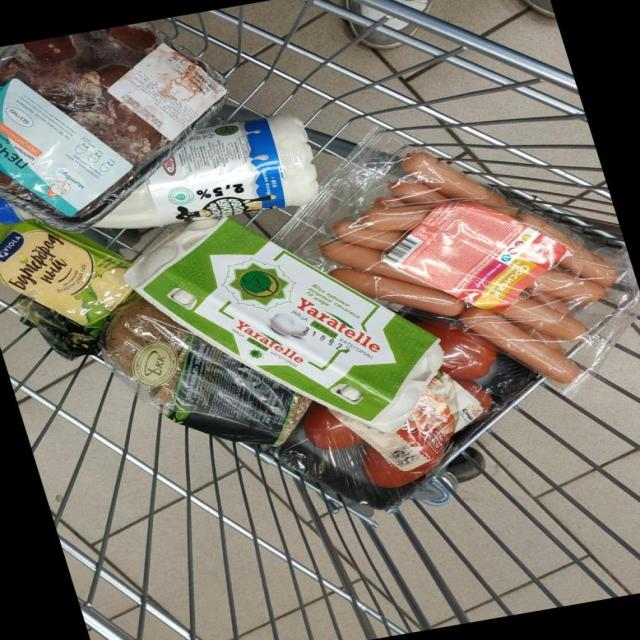cheese: (0, 124, 49, 450)
egg: (225, 194, 640, 531)
milk: (154, 82, 467, 239), (13, 111, 38, 326)
tomato: (201, 238, 577, 640), (249, 199, 640, 578), (145, 206, 460, 640), (227, 161, 640, 480)
